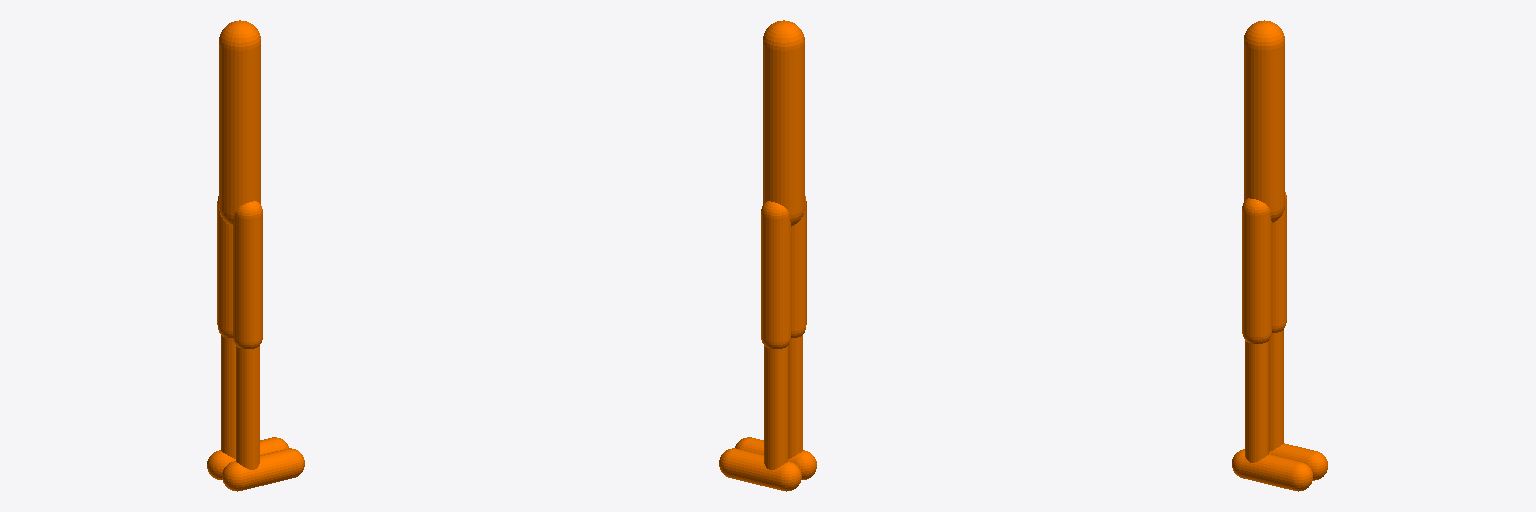
URDF robot description (converted_robot):
<?xml version='1.0' encoding='utf-8'?>
<robot name="converted_robot">
   
   <link name="world">
      <inertial>
         <origin xyz="0.0 0.0 0.0" rpy="0.0 0.0 0.0" />
         <mass value="0.0" />
         <inertia ixx="0.0" iyy="0.0" izz="0.0" ixy="0" ixz="0" iyz="0" />
      </inertial>
   </link>
   <link name="torso">
      <inertial>
         <origin xyz="0.0 0.0 0.0" rpy="0.0 0.0 0.0" />
         <mass value="10.673037441795724" />
         <inertia ixx="0.44315580337296034" iyy="0.44315580337296034" izz="0.025444931762681082" ixy="0" ixz="0" iyz="0" />
      </inertial>
   <visual><origin xyz="0.0 0.0 0.0" rpy="0.0 0.0 0.0" /><geometry><cylinder radius="0.07" length="0.6" /></geometry><material name="torso_material"><color rgba="1.0 0.5 0.0 1.0" /></material></visual><visual><origin xyz="0.0 0.0 0.3" rpy="0 0 0" /><geometry><sphere radius="0.07" /></geometry><material name="torso_material"><color rgba="1.0 0.5 0.0 1.0" /></material></visual><visual><origin xyz="0.0 0.0 -0.3" rpy="0 0 0" /><geometry><sphere radius="0.07" /></geometry><material name="torso_material"><color rgba="1.0 0.5 0.0 1.0" /></material></visual></link>
   <link name="rootz_jointbody">
      <inertial>
         <origin xyz="0.0 0.0 0.0" rpy="0.0 0.0 0.0" />
         <mass value="0.001" />
         <inertia ixx="1e-09" iyy="1e-09" izz="1e-09" ixy="0" ixz="0" iyz="0" />
      </inertial>
   </link>
   <joint type="fixed" name="rootz">
      <parent link="world" />
      <child link="rootz_jointbody" />
      <origin xyz="0.0 0.0 1.3" rpy="0.0 0.0 0.0" />
   </joint>
   <link name="rootx_jointbody">
      <inertial>
         <origin xyz="0.0 0.0 0.0" rpy="0.0 0.0 0.0" />
         <mass value="0.001" />
         <inertia ixx="1e-09" iyy="1e-09" izz="1e-09" ixy="0" ixz="0" iyz="0" />
      </inertial>
   </link>
   <joint type="fixed" name="rootx">
      <parent link="rootz_jointbody" />
      <child link="rootx_jointbody" />
      <origin xyz="0.0 0.0 0.0" rpy="0.0 0.0 0.0" />
   </joint>
   <link name="rooty_jointbody">
      <inertial>
         <origin xyz="0.0 0.0 0.0" rpy="0.0 0.0 0.0" />
         <mass value="0.001" />
         <inertia ixx="1e-09" iyy="1e-09" izz="1e-09" ixy="0" ixz="0" iyz="0" />
      </inertial>
   </link>
   <joint type="revolute" name="rooty">
      <parent link="rootx_jointbody" />
      <child link="rooty_jointbody" />
      <origin xyz="0.0 0.0 0.0" rpy="0.0 0.0 0.0" />
      <axis xyz="0.0 1.0 0.0" />
      <limit lower="0.0" upper="0.0" effort="100" velocity="100" />
   </joint>
   <joint type="fixed" name="rooty_offset">
      <parent link="rooty_jointbody" />
      <child link="torso" />
      <origin xyz="-0.0 -0.0 -0.0" rpy="0.0 0.0 0.0" />
   </joint>
   <link name="right_thigh">
      <inertial>
         <origin xyz="0.0 0.0 -0.225" rpy="0.0 0.0 0.0" />
         <mass value="4.057890510886818" />
         <inertia ixx="0.09329875682692193" iyy="0.09329875682692193" izz="0.004941463444708948" ixy="0" ixz="0" iyz="0" />
      </inertial>
   <visual><origin xyz="0.0 0.0 -0.225" rpy="0.0 0.0 0.0" /><geometry><cylinder radius="0.05" length="0.45" /></geometry><material name="right_thigh_material"><color rgba="1.0 0.5 0.0 1.0" /></material></visual><visual><origin xyz="0.0 0.0 0.0" rpy="0 0 0" /><geometry><sphere radius="0.05" /></geometry><material name="right_thigh_material"><color rgba="1.0 0.5 0.0 1.0" /></material></visual><visual><origin xyz="0.0 0.0 -0.45" rpy="0 0 0" /><geometry><sphere radius="0.05" /></geometry><material name="right_thigh_material"><color rgba="1.0 0.5 0.0 1.0" /></material></visual></link>
   <link name="right_hip_jointbody">
      <inertial>
         <origin xyz="0.0 0.0 0.0" rpy="0.0 0.0 0.0" />
         <mass value="0.001" />
         <inertia ixx="1e-09" iyy="1e-09" izz="1e-09" ixy="0" ixz="0" iyz="0" />
      </inertial>
   </link>
   <joint type="revolute" name="right_hip">
      <parent link="torso" />
      <child link="right_hip_jointbody" />
      <origin xyz="0.0 -0.05 -0.3" rpy="0.0 0.0 0.0" />
      <axis xyz="0.0 -1.0 0.0" />
      <limit lower="-0.3490658503988659" upper="1.7453292519943295" effort="100" velocity="100" />
   </joint>
   <joint type="fixed" name="right_hip_offset">
      <parent link="right_hip_jointbody" />
      <child link="right_thigh" />
      <origin xyz="-0.0 -0.0 -0.0" rpy="0.0 0.0 0.0" />
   </joint>
   <link name="right_leg">
      <inertial>
         <origin xyz="0.0 0.0 0.0" rpy="0.0 0.0 0.0" />
         <mass value="2.7813566959781637" />
         <inertia ixx="0.07230254017320971" iyy="0.07230254017320971" izz="0.0021821921450855186" ixy="0" ixz="0" iyz="0" />
      </inertial>
   <visual><origin xyz="0.0 0.0 0.0" rpy="0.0 0.0 0.0" /><geometry><cylinder radius="0.04" length="0.5" /></geometry><material name="right_leg_material"><color rgba="1.0 0.5 0.0 1.0" /></material></visual><visual><origin xyz="0.0 0.0 0.25" rpy="0 0 0" /><geometry><sphere radius="0.04" /></geometry><material name="right_leg_material"><color rgba="1.0 0.5 0.0 1.0" /></material></visual><visual><origin xyz="0.0 0.0 -0.25" rpy="0 0 0" /><geometry><sphere radius="0.04" /></geometry><material name="right_leg_material"><color rgba="1.0 0.5 0.0 1.0" /></material></visual></link>
   <link name="right_knee_jointbody">
      <inertial>
         <origin xyz="0.0 0.0 0.0" rpy="0.0 0.0 0.0" />
         <mass value="0.001" />
         <inertia ixx="1e-09" iyy="1e-09" izz="1e-09" ixy="0" ixz="0" iyz="0" />
      </inertial>
   </link>
   <joint type="revolute" name="right_knee">
      <parent link="right_thigh" />
      <child link="right_knee_jointbody" />
      <origin xyz="0.0 0.0 -0.44999999999999996" rpy="0.0 0.0 0.0" />
      <axis xyz="0.0 -1.0 0.0" />
      <limit lower="-2.6179938779914944" upper="0.0" effort="100" velocity="100" />
   </joint>
   <joint type="fixed" name="right_knee_offset">
      <parent link="right_knee_jointbody" />
      <child link="right_leg" />
      <origin xyz="-0.0 -0.0 -0.25" rpy="0.0 0.0 0.0" />
   </joint>
   <link name="right_foot">
      <inertial>
         <origin xyz="0.0 0.0 0.0" rpy="-0.0 1.5707963267948966 0.0" />
         <mass value="2.094395102393196" />
         <inertia ixx="0.013940817400304714" iyy="0.013940817400304714" izz="0.00248709418409192" ixy="0" ixz="0" iyz="0" />
      </inertial>
   <visual><origin xyz="0.0 0.0 0.0" rpy="0.0 1.5708 0.0" /><geometry><cylinder radius="0.05" length="0.2" /></geometry><material name="right_foot_material"><color rgba="1.0 0.5 0.0 1.0" /></material></visual><visual><origin xyz="0.09999999999932538 0.0 -3.673205103346574e-07" rpy="0 0 0" /><geometry><sphere radius="0.05" /></geometry><material name="right_foot_material"><color rgba="1.0 0.5 0.0 1.0" /></material></visual><visual><origin xyz="-0.09999999999932538 0.0 3.673205103346574e-07" rpy="0 0 0" /><geometry><sphere radius="0.05" /></geometry><material name="right_foot_material"><color rgba="1.0 0.5 0.0 1.0" /></material></visual></link>
   <link name="right_ankle_jointbody">
      <inertial>
         <origin xyz="0.0 0.0 0.0" rpy="0.0 0.0 0.0" />
         <mass value="0.001" />
         <inertia ixx="1e-09" iyy="1e-09" izz="1e-09" ixy="0" ixz="0" iyz="0" />
      </inertial>
   </link>
   <joint type="revolute" name="right_ankle">
      <parent link="right_leg" />
      <child link="right_ankle_jointbody" />
      <origin xyz="0.0 0.0 -0.25" rpy="0.0 0.0 0.0" />
      <axis xyz="0.0 -1.0 0.0" />
      <limit lower="-0.7853981633974483" upper="0.7853981633974483" effort="100" velocity="100" />
   </joint>
   <joint type="fixed" name="right_ankle_offset">
      <parent link="right_ankle_jointbody" />
      <child link="right_foot" />
      <origin xyz="0.06 -0.0 -0.0" rpy="0.0 0.0 0.0" />
   </joint>
   <link name="left_thigh">
      <inertial>
         <origin xyz="0.0 0.0 -0.225" rpy="0.0 0.0 0.0" />
         <mass value="4.057890510886818" />
         <inertia ixx="0.09329875682692193" iyy="0.09329875682692193" izz="0.004941463444708948" ixy="0" ixz="0" iyz="0" />
      </inertial>
   <visual><origin xyz="0.0 0.0 -0.225" rpy="0.0 0.0 0.0" /><geometry><cylinder radius="0.05" length="0.45" /></geometry><material name="left_thigh_material"><color rgba="1.0 0.5 0.0 1.0" /></material></visual><visual><origin xyz="0.0 0.0 0.0" rpy="0 0 0" /><geometry><sphere radius="0.05" /></geometry><material name="left_thigh_material"><color rgba="1.0 0.5 0.0 1.0" /></material></visual><visual><origin xyz="0.0 0.0 -0.45" rpy="0 0 0" /><geometry><sphere radius="0.05" /></geometry><material name="left_thigh_material"><color rgba="1.0 0.5 0.0 1.0" /></material></visual></link>
   <link name="left_hip_jointbody">
      <inertial>
         <origin xyz="0.0 0.0 0.0" rpy="0.0 0.0 0.0" />
         <mass value="0.001" />
         <inertia ixx="1e-09" iyy="1e-09" izz="1e-09" ixy="0" ixz="0" iyz="0" />
      </inertial>
   </link>
   <joint type="revolute" name="left_hip">
      <parent link="torso" />
      <child link="left_hip_jointbody" />
      <origin xyz="0.0 0.05 -0.3" rpy="0.0 0.0 0.0" />
      <axis xyz="0.0 -1.0 0.0" />
      <limit lower="-0.3490658503988659" upper="1.7453292519943295" effort="100" velocity="100" />
   </joint>
   <joint type="fixed" name="left_hip_offset">
      <parent link="left_hip_jointbody" />
      <child link="left_thigh" />
      <origin xyz="-0.0 -0.0 -0.0" rpy="0.0 0.0 0.0" />
   </joint>
   <link name="left_leg">
      <inertial>
         <origin xyz="0.0 0.0 0.0" rpy="0.0 0.0 0.0" />
         <mass value="2.7813566959781637" />
         <inertia ixx="0.07230254017320971" iyy="0.07230254017320971" izz="0.0021821921450855186" ixy="0" ixz="0" iyz="0" />
      </inertial>
   <visual><origin xyz="0.0 0.0 0.0" rpy="0.0 0.0 0.0" /><geometry><cylinder radius="0.04" length="0.5" /></geometry><material name="left_leg_material"><color rgba="1.0 0.5 0.0 1.0" /></material></visual><visual><origin xyz="0.0 0.0 0.25" rpy="0 0 0" /><geometry><sphere radius="0.04" /></geometry><material name="left_leg_material"><color rgba="1.0 0.5 0.0 1.0" /></material></visual><visual><origin xyz="0.0 0.0 -0.25" rpy="0 0 0" /><geometry><sphere radius="0.04" /></geometry><material name="left_leg_material"><color rgba="1.0 0.5 0.0 1.0" /></material></visual></link>
   <link name="left_knee_jointbody">
      <inertial>
         <origin xyz="0.0 0.0 0.0" rpy="0.0 0.0 0.0" />
         <mass value="0.001" />
         <inertia ixx="1e-09" iyy="1e-09" izz="1e-09" ixy="0" ixz="0" iyz="0" />
      </inertial>
   </link>
   <joint type="revolute" name="left_knee">
      <parent link="left_thigh" />
      <child link="left_knee_jointbody" />
      <origin xyz="0.0 0.0 -0.44999999999999996" rpy="0.0 0.0 0.0" />
      <axis xyz="0.0 -1.0 0.0" />
      <limit lower="-2.6179938779914944" upper="0.0" effort="100" velocity="100" />
   </joint>
   <joint type="fixed" name="left_knee_offset">
      <parent link="left_knee_jointbody" />
      <child link="left_leg" />
      <origin xyz="-0.0 -0.0 -0.25" rpy="0.0 0.0 0.0" />
   </joint>
   <link name="left_foot">
      <inertial>
         <origin xyz="0.0 0.0 0.0" rpy="-0.0 1.5707963267948966 0.0" />
         <mass value="2.094395102393196" />
         <inertia ixx="0.013940817400304714" iyy="0.013940817400304714" izz="0.00248709418409192" ixy="0" ixz="0" iyz="0" />
      </inertial>
   <visual><origin xyz="0.0 0.0 0.0" rpy="0.0 1.5708 0.0" /><geometry><cylinder radius="0.05" length="0.2" /></geometry><material name="left_foot_material"><color rgba="1.0 0.5 0.0 1.0" /></material></visual><visual><origin xyz="0.09999999999932538 0.0 -3.673205103346574e-07" rpy="0 0 0" /><geometry><sphere radius="0.05" /></geometry><material name="left_foot_material"><color rgba="1.0 0.5 0.0 1.0" /></material></visual><visual><origin xyz="-0.09999999999932538 0.0 3.673205103346574e-07" rpy="0 0 0" /><geometry><sphere radius="0.05" /></geometry><material name="left_foot_material"><color rgba="1.0 0.5 0.0 1.0" /></material></visual></link>
   <link name="left_ankle_jointbody">
      <inertial>
         <origin xyz="0.0 0.0 0.0" rpy="0.0 0.0 0.0" />
         <mass value="0.001" />
         <inertia ixx="1e-09" iyy="1e-09" izz="1e-09" ixy="0" ixz="0" iyz="0" />
      </inertial>
   </link>
   <joint type="revolute" name="left_ankle">
      <parent link="left_leg" />
      <child link="left_ankle_jointbody" />
      <origin xyz="0.0 0.0 -0.25" rpy="0.0 0.0 0.0" />
      <axis xyz="0.0 -1.0 0.0" />
      <limit lower="-0.7853981633974483" upper="0.7853981633974483" effort="100" velocity="100" />
   </joint>
   <joint type="fixed" name="left_ankle_offset">
      <parent link="left_ankle_jointbody" />
      <child link="left_foot" />
      <origin xyz="0.06 -0.0 -0.0" rpy="0.0 0.0 0.0" />
   </joint>
</robot>

--- Facts derived from the render (not from the file) ---
3 views of the same robot in one strip: view 1: azimuth 30°, elevation 25°; view 2: azimuth 150°, elevation 25°; view 3: azimuth 330°, elevation 25° (orthographic).
Model converted_robot with 17 links and 16 joints (7 revolute, 9 fixed), rooted at world, posed every joint at zero.
Links seen in each view (by area): view 1: torso, right_thigh, right_leg, right_foot, left_thigh, left_leg, left_foot; view 2: torso, left_thigh, left_leg, left_foot, right_thigh, right_leg, right_foot; view 3: torso, right_thigh, right_leg, right_foot, left_thigh, left_leg, left_foot.
Link boxes in pixels (<box>): torso: <box>219,20,260,226</box>; right_thigh: <box>233,201,262,348</box>; right_leg: <box>236,346,259,469</box>; right_foot: <box>222,448,304,491</box>; left_thigh: <box>217,196,232,337</box>; left_leg: <box>221,335,235,458</box>; left_foot: <box>207,437,288,479</box>; torso: <box>763,20,804,226</box>; left_thigh: <box>761,201,790,348</box>; left_leg: <box>764,346,787,469</box>; left_foot: <box>719,448,801,491</box>; right_thigh: <box>791,196,806,337</box>; right_leg: <box>788,335,802,458</box>; right_foot: <box>735,437,816,479</box>; torso: <box>1244,20,1284,222</box>; right_thigh: <box>1242,198,1271,343</box>; right_leg: <box>1245,341,1268,462</box>; right_foot: <box>1232,449,1312,491</box>; left_thigh: <box>1272,192,1286,332</box>; left_leg: <box>1269,330,1283,451</box>; left_foot: <box>1269,443,1327,480</box>.
Size in the robot's own frame: 0.3 by 0.2 by 1.67 metres.
Geometry: primitives only (box / cylinder / sphere), no mesh files.
